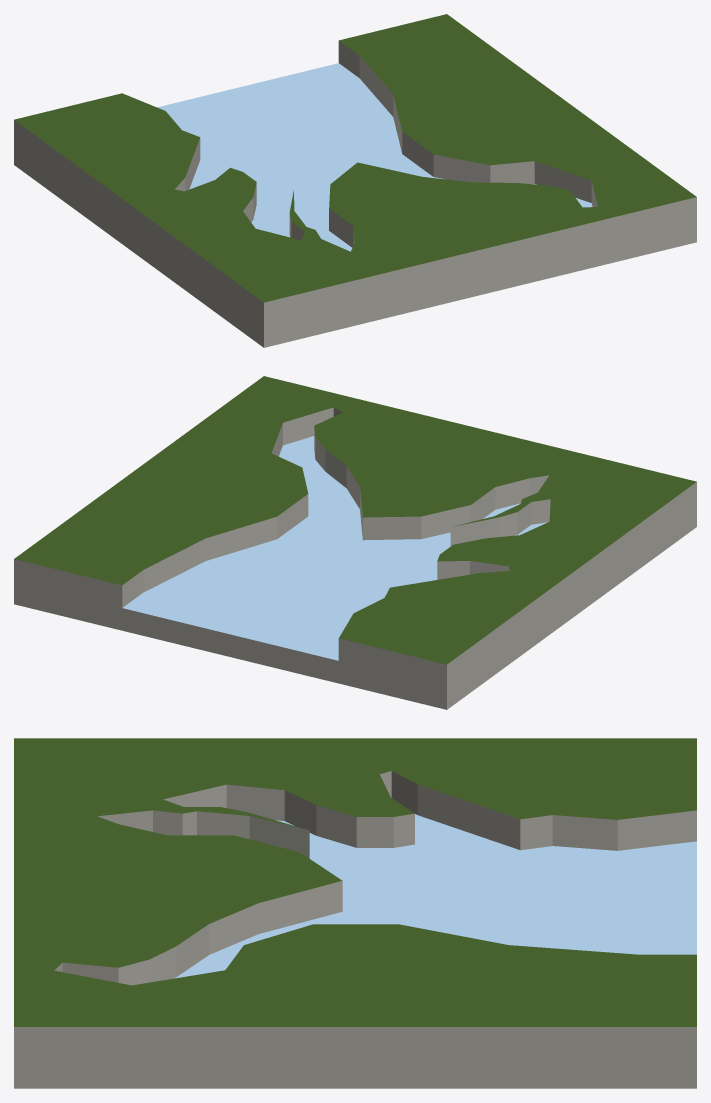
Rendered from Terrain_Modular_Tiles_Grass_Rock_River_End_02.fbx.
The picture shows the model from 3 angles, top to bottom: view 1: azimuth 30°, elevation 25°; view 2: azimuth 150°, elevation 25°; view 3: azimuth 270°, elevation 25°; orthographic projection. The views are drawn at different scales.
Visible parts, largest first — view 1: Terrain_Modular_Tiles_Grass_Rock_River_End_02; view 2: Terrain_Modular_Tiles_Grass_Rock_River_End_02; view 3: Terrain_Modular_Tiles_Grass_Rock_River_End_02.
Boxes of the visible parts, bbox=[...] form: Terrain_Modular_Tiles_Grass_Rock_River_End_02: bbox=[14, 14, 696, 347]; Terrain_Modular_Tiles_Grass_Rock_River_End_02: bbox=[14, 376, 696, 709]; Terrain_Modular_Tiles_Grass_Rock_River_End_02: bbox=[14, 738, 696, 1088].
Size of the model in its own units: 118 by 11.81 by 118.
